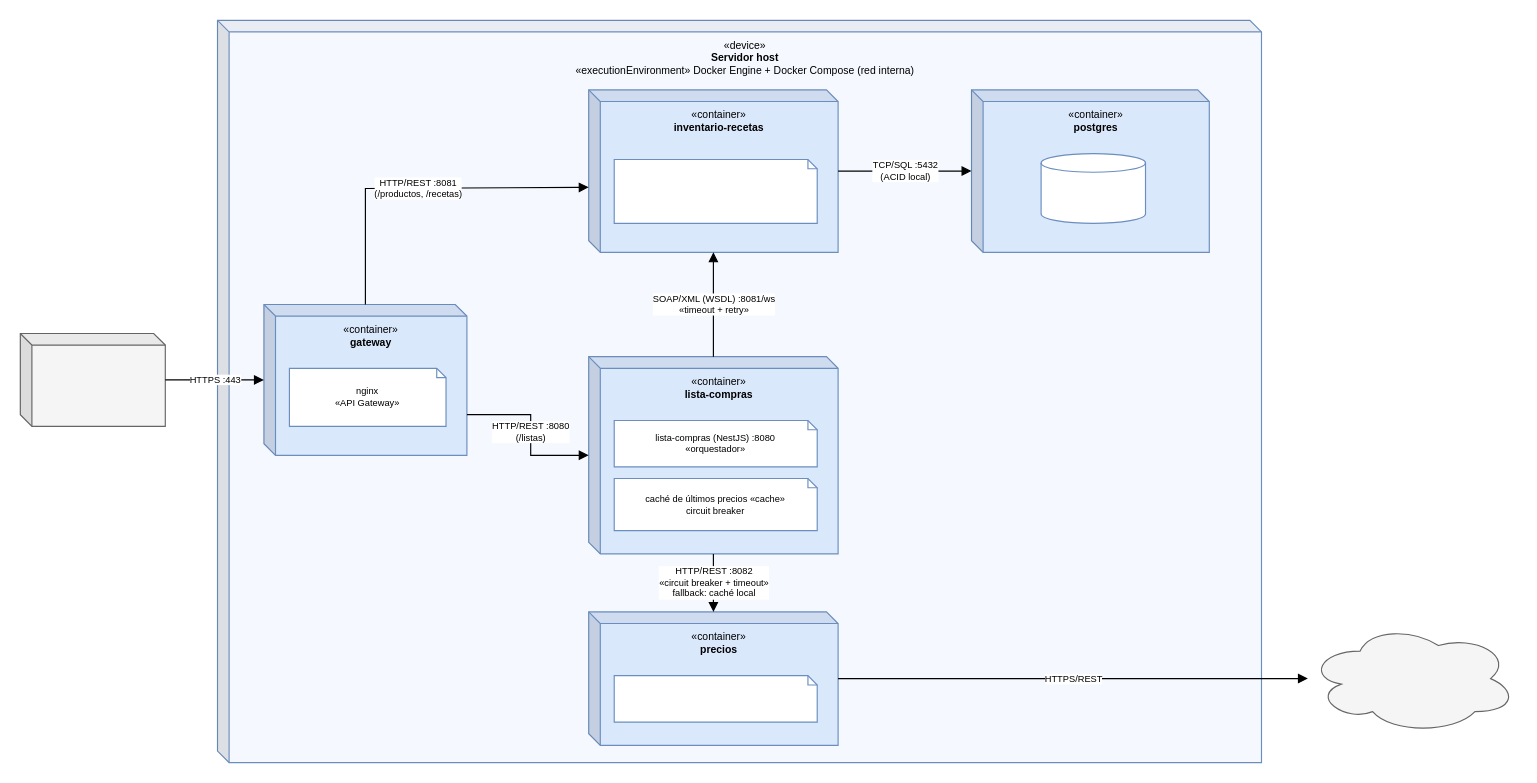
The diagram is 1537 pixels wide and 783 high, and some of its shapes have lost their labels. Here are the shapes that lost their labels. From the top down, the centre of each, then its label:
(x=715, y=190): inventario-recetas (NestJS) REST + SOAP (WSDL) :8081
(x=1093, y=188): bd_inventario
(x=92, y=379): «device» Cliente (Browser / Postman / App)
(x=715, y=698): precios (NestJS) :8082 simula proveedor externo
(x=1412, y=678): «external» API externa de precios (simulada)
